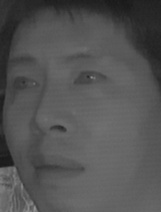eye: (71, 65, 110, 90), (9, 74, 40, 93)
mouth: (28, 149, 85, 186)
